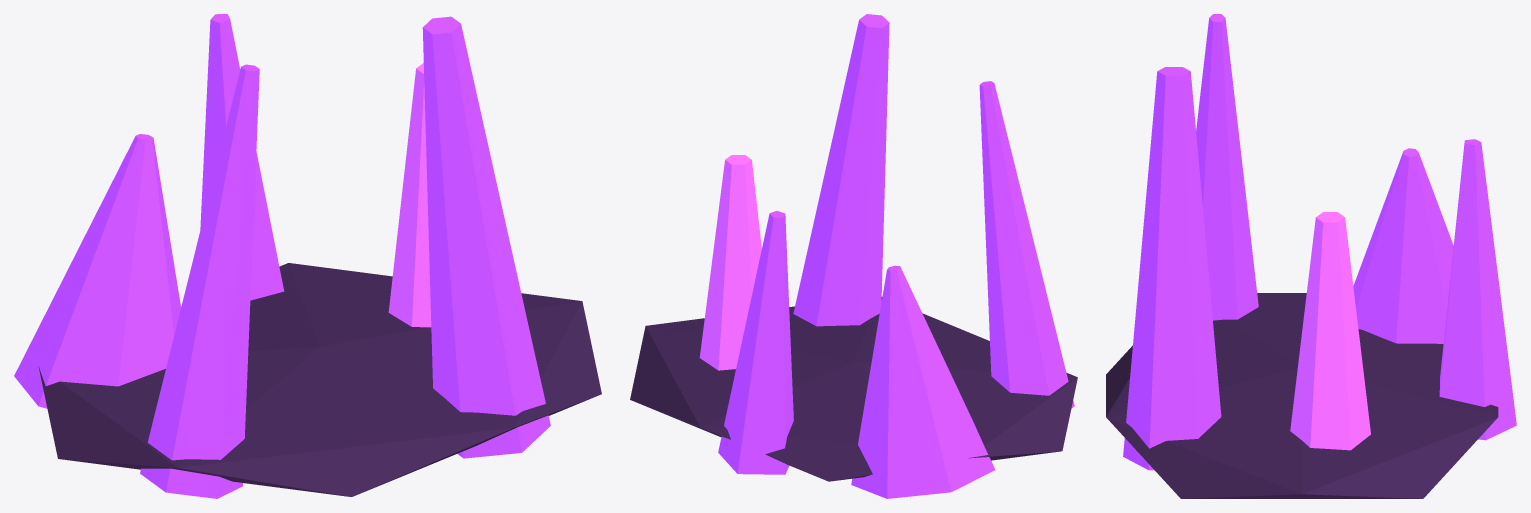
File: mire_crystal_f.glb
3 renders of one model, left to right at view 1: azimuth 30°, elevation 25°; view 2: azimuth 150°, elevation 25°; view 3: azimuth 270°, elevation 25°, orthographic. The views are drawn at different scales.
Parts seen in each view (by area): view 1: Mire_Base.005, Crystal_5.004, Crystal_4.005, Crystal_3.005, Crystal_1.005, Crystal_2.005; view 2: Mire_Base.005, Crystal_3.005, Crystal_5.004, Crystal_4.005, Crystal_2.005, Crystal_1.005; view 3: Mire_Base.005, Crystal_5.004, Crystal_3.005, Crystal_1.005, Crystal_2.005, Crystal_4.005.
Part boxes in pixels (x1=…): Mire_Base.005: x1=38, y1=263, x2=601, y2=496; Crystal_5.004: x1=422, y1=16, x2=550, y2=458; Crystal_4.005: x1=140, y1=64, x2=259, y2=498; Crystal_3.005: x1=14, y1=134, x2=181, y2=408; Crystal_1.005: x1=388, y1=63, x2=431, y2=327; Crystal_2.005: x1=200, y1=14, x2=284, y2=300; Mire_Base.005: x1=630, y1=297, x2=1077, y2=481; Crystal_3.005: x1=851, y1=265, x2=995, y2=498; Crystal_5.004: x1=793, y1=14, x2=889, y2=326; Crystal_4.005: x1=979, y1=81, x2=1074, y2=408; Crystal_2.005: x1=718, y1=211, x2=793, y2=474; Crystal_1.005: x1=699, y1=155, x2=761, y2=370; Mire_Base.005: x1=1106, y1=293, x2=1498, y2=498; Crystal_5.004: x1=1123, y1=67, x2=1221, y2=470; Crystal_3.005: x1=1353, y1=148, x2=1453, y2=343; Crystal_1.005: x1=1290, y1=212, x2=1370, y2=450; Crystal_2.005: x1=1439, y1=139, x2=1516, y2=440; Crystal_4.005: x1=1196, y1=14, x2=1258, y2=320.
Size of the model in its own units: 1.65 by 1.3 by 1.28.
